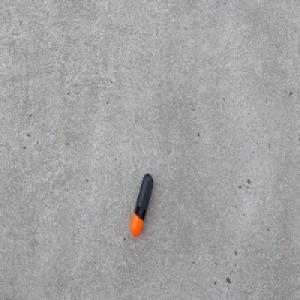PlasticPart: (129, 172, 153, 237)
